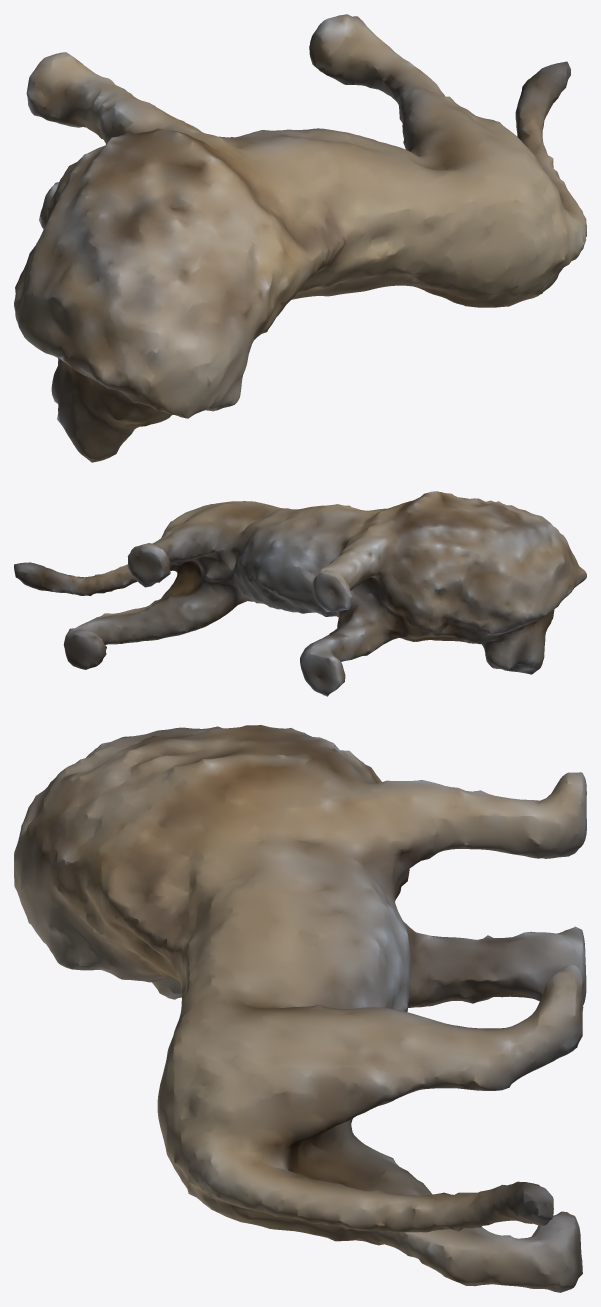
File: lion.glb
3 views of the same model, one above another, from view 1: azimuth 30°, elevation 25°; view 2: azimuth 150°, elevation 25°; view 3: azimuth 270°, elevation 25° (orthographic). The views are drawn at different scales.
Size of the model in its own units: 0.9942 by 0.3668 by 0.6128.
